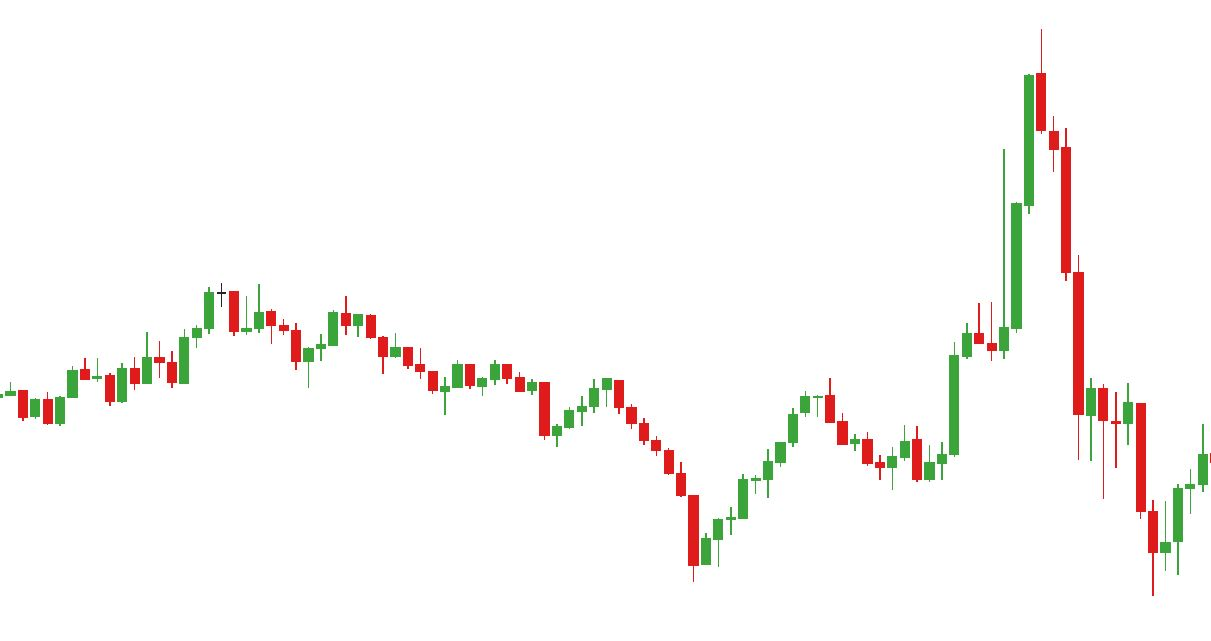sell: (279, 298, 352, 352)
